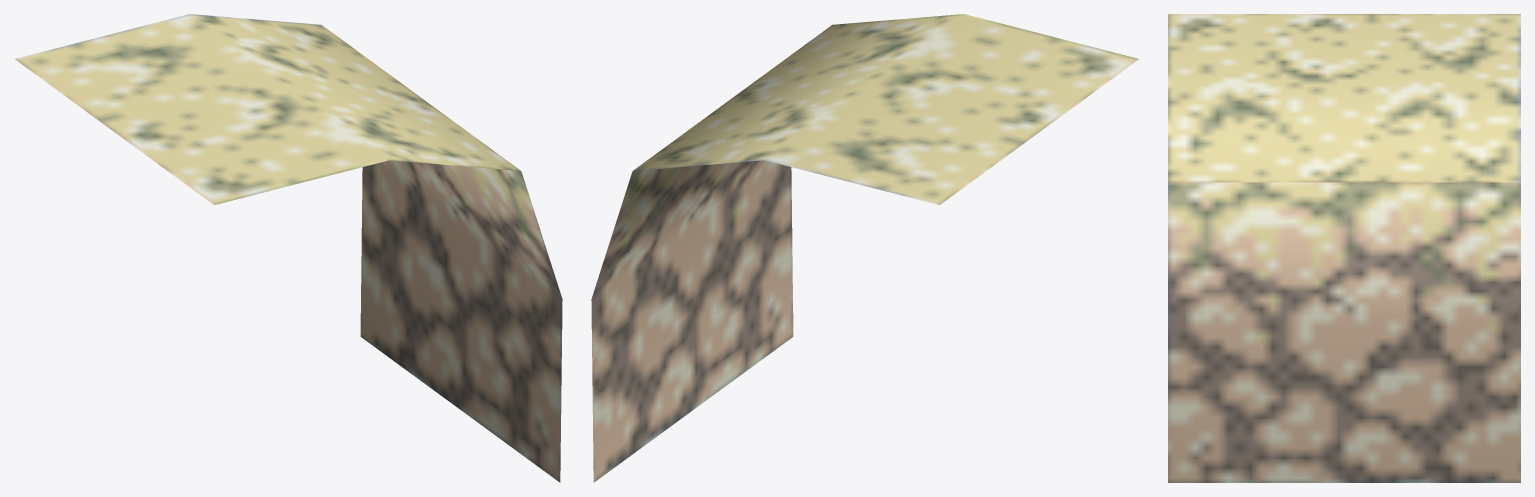
The model's file is sandSTile_innerEdge_left.fbx.
3 views of the same model, side by side, from view 1: azimuth 30°, elevation 25°; view 2: azimuth 150°, elevation 25°; view 3: azimuth 270°, elevation 25° (orthographic). The views are drawn at different scales.
Visible parts, largest first — view 1: sandSTile_innerEdge_left; view 2: sandSTile_innerEdge_left; view 3: sandSTile_innerEdge_left.
Part boxes in pixels (box(x1,y1,x2,y2)): sandSTile_innerEdge_left: box(15, 14, 562, 482); sandSTile_innerEdge_left: box(591, 14, 1138, 482); sandSTile_innerEdge_left: box(1168, 14, 1520, 482).
Size of the model in its own units: 1.01 by 1.01 by 1.
